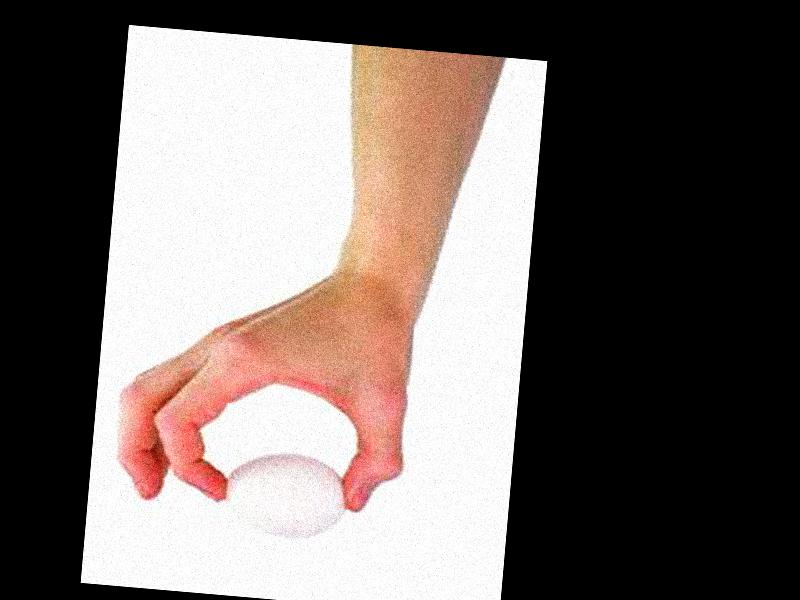Eggs: (221, 448, 349, 542)
